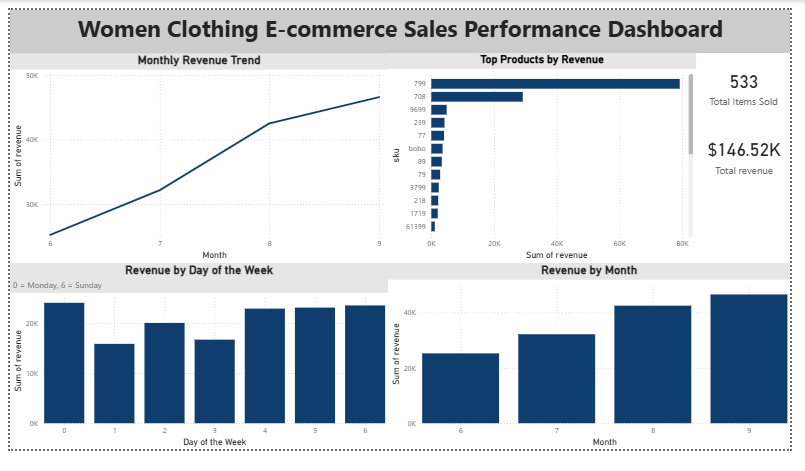

Layout of this report page (visuals, bound fields, positions):
{"tool":"powerbi","page":{"name":"Page 1","canvas":[1280,720],"ordinal":0},"visuals":[{"type":"lineChart","title":"Monthly Revenue Trend","fields":{"Y":["Sum(women_clothing_ecommerce_sales_cleaned.revenue)"],"Category":["women_clothing_ecommerce_sales_cleaned.Month"]},"box":[0,70.5,620.1,343.8],"z":0},{"type":"textbox","box":[0,0,1280,70.6],"z":1},{"type":"card","fields":{"Values":["Sum(women_clothing_ecommerce_sales_cleaned.quantity)"]},"box":[1127,70.5,152.8,110.2],"z":3},{"type":"card","fields":{"Values":["Sum(women_clothing_ecommerce_sales_cleaned.revenue)"]},"box":[1125.6,180.7,154.3,114.6],"z":4},{"type":"clusteredBarChart","title":"Top Products by Revenue","fields":{"Y":["Sum(women_clothing_ecommerce_sales_cleaned.revenue)"],"Category":["women_clothing_ecommerce_sales_cleaned.sku"]},"box":[620.1,70.5,505.5,343.8],"z":5},{"type":"columnChart","title":"Revenue by Day of the Week","fields":{"Y":["Sum(women_clothing_ecommerce_sales_cleaned.revenue)"],"Category":["women_clothing_ecommerce_sales_cleaned.Day of the Week"]},"box":[0,414.4,620.1,305.6],"z":6},{"type":"columnChart","title":"Revenue by Month","fields":{"Y":["Sum(women_clothing_ecommerce_sales_cleaned.revenue)"],"Category":["women_clothing_ecommerce_sales_cleaned.Month"]},"box":[620.1,414.4,659.8,305.6],"z":7}]}

Visuals, with their boxes on the page's 1280x720 design canvas (x1, y1, x2, y2). These are canvas units, not pixel positions in the 805x471 screenshot, which may show the page scaled, cropped or inside an application window:
"Monthly Revenue Trend" lineChart: [0, 70, 620, 414]
textbox: [0, 0, 1280, 71]
card - Sum(women_clothing_ecommerce_sales_cleaned.quantity): [1127, 70, 1280, 181]
card - Sum(women_clothing_ecommerce_sales_cleaned.revenue): [1126, 181, 1280, 295]
"Top Products by Revenue" clusteredBarChart: [620, 70, 1126, 414]
"Revenue by Day of the Week" columnChart: [0, 414, 620, 720]
"Revenue by Month" columnChart: [620, 414, 1280, 720]
